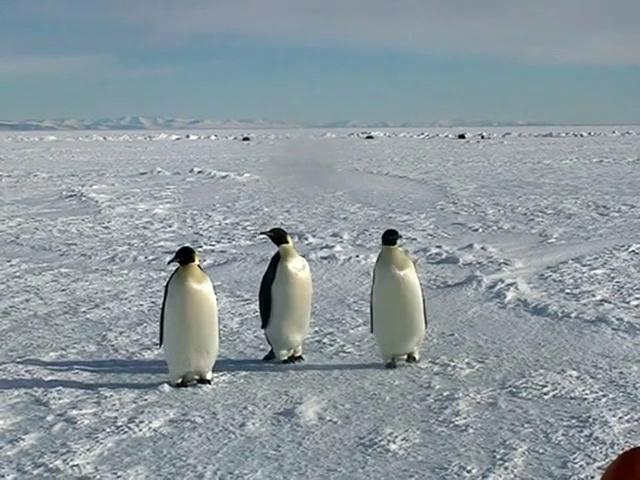animal: (371, 230, 429, 369)
